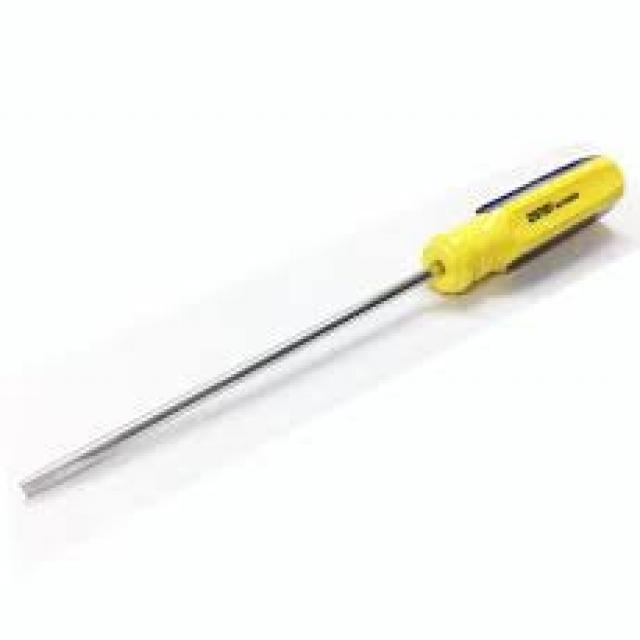screwdriver: (16, 152, 626, 500)
